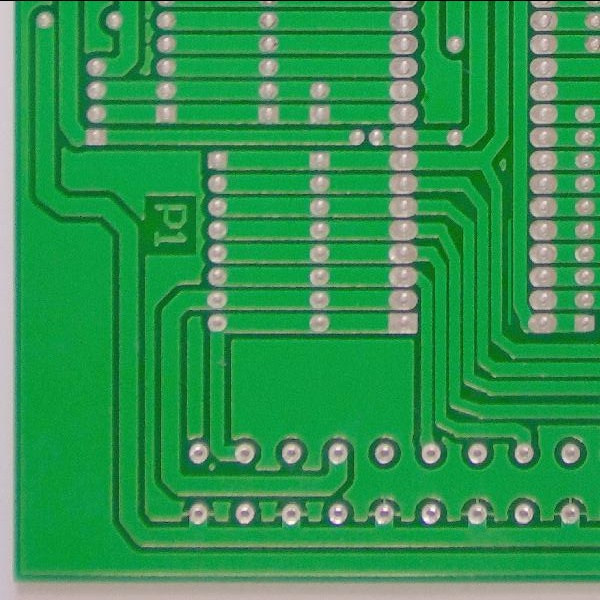spurious_copper: (504, 214, 515, 328)
